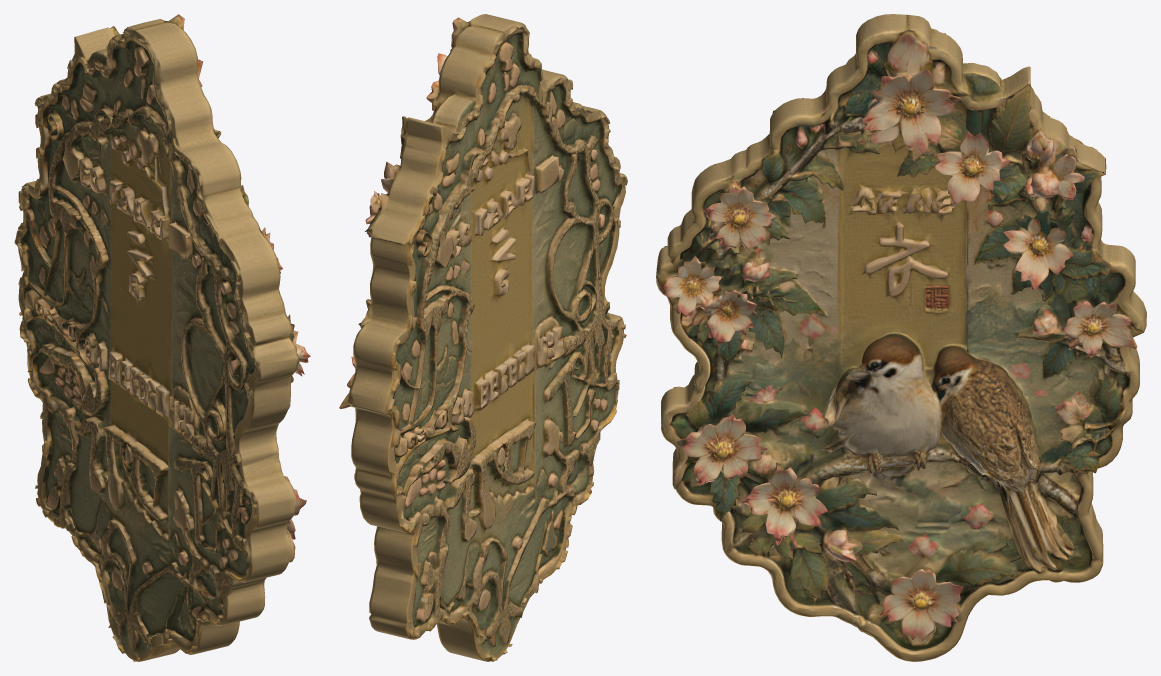
Rendered from tripo_pbr_model_3e434093-cf20-42f2-84f0-b4708e772199.glb.
3 views of the same model, side by side, from view 1: azimuth 30°, elevation 25°; view 2: azimuth 150°, elevation 25°; view 3: azimuth 270°, elevation 25° (orthographic).
Parts seen in each view (by area): view 1: tripo_node_3e434093-cf20-42f2-84f0-b4708e772199; view 2: tripo_node_3e434093-cf20-42f2-84f0-b4708e772199; view 3: tripo_node_3e434093-cf20-42f2-84f0-b4708e772199.
Boxes of the visible parts, <box> form: tripo_node_3e434093-cf20-42f2-84f0-b4708e772199: <box>14,14,310,661</box>; tripo_node_3e434093-cf20-42f2-84f0-b4708e772199: <box>339,14,627,661</box>; tripo_node_3e434093-cf20-42f2-84f0-b4708e772199: <box>656,14,1146,661</box>.
Size of the model in its own units: 0.1175 by 1 by 0.7022.
Materials: 1 (1 with a texture image).
